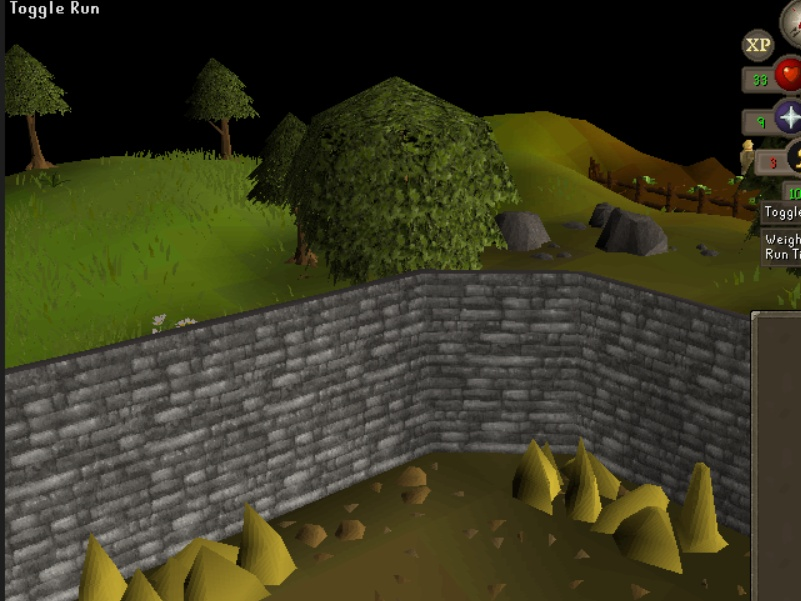gold: (603, 462, 731, 578), (157, 500, 299, 601), (511, 431, 626, 528), (65, 530, 156, 601)
